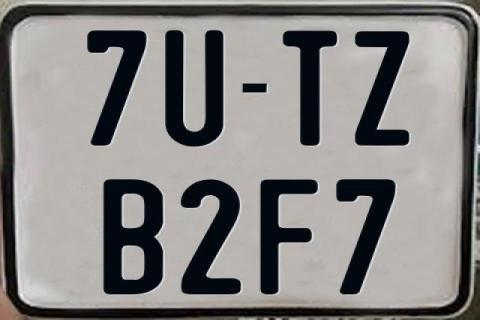0: (181, 178, 245, 296), (333, 178, 392, 296), (86, 30, 146, 146)
B: (100, 178, 164, 298)
F: (259, 180, 320, 300)
T: (284, 28, 344, 148)
U: (164, 28, 224, 146)
Z: (352, 29, 411, 143)
